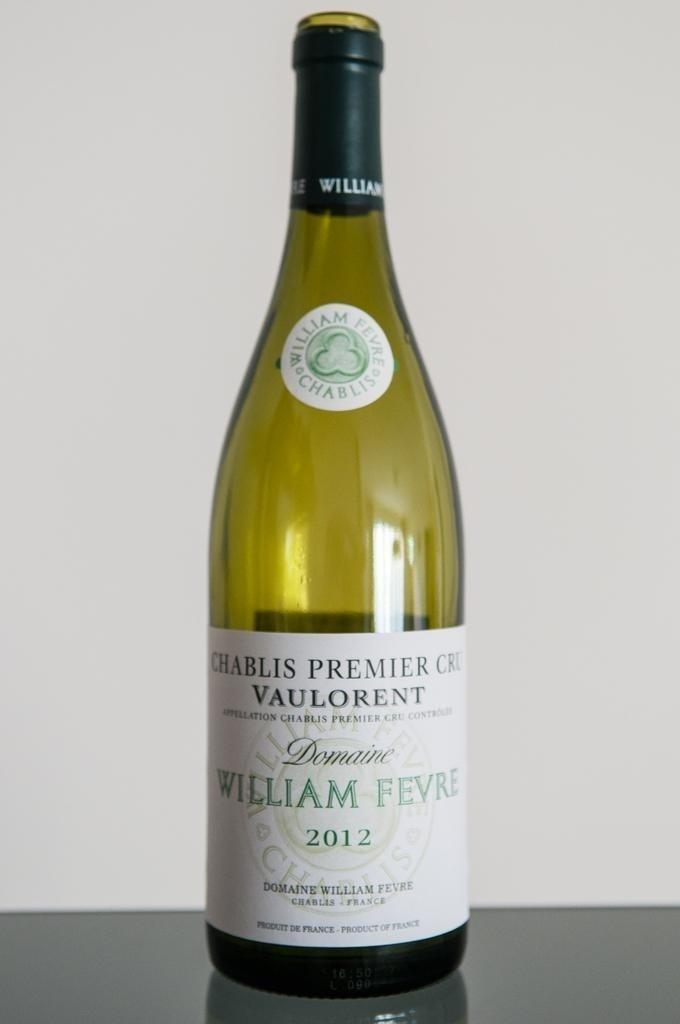bottle-glass: (204, 13, 472, 996)
